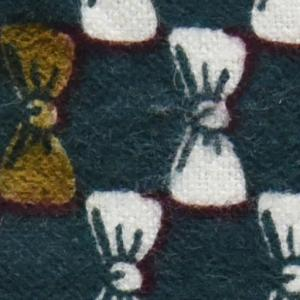Oil Stain: (1, 21, 91, 217)
